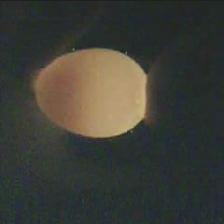infertile: (34, 47, 148, 138)
